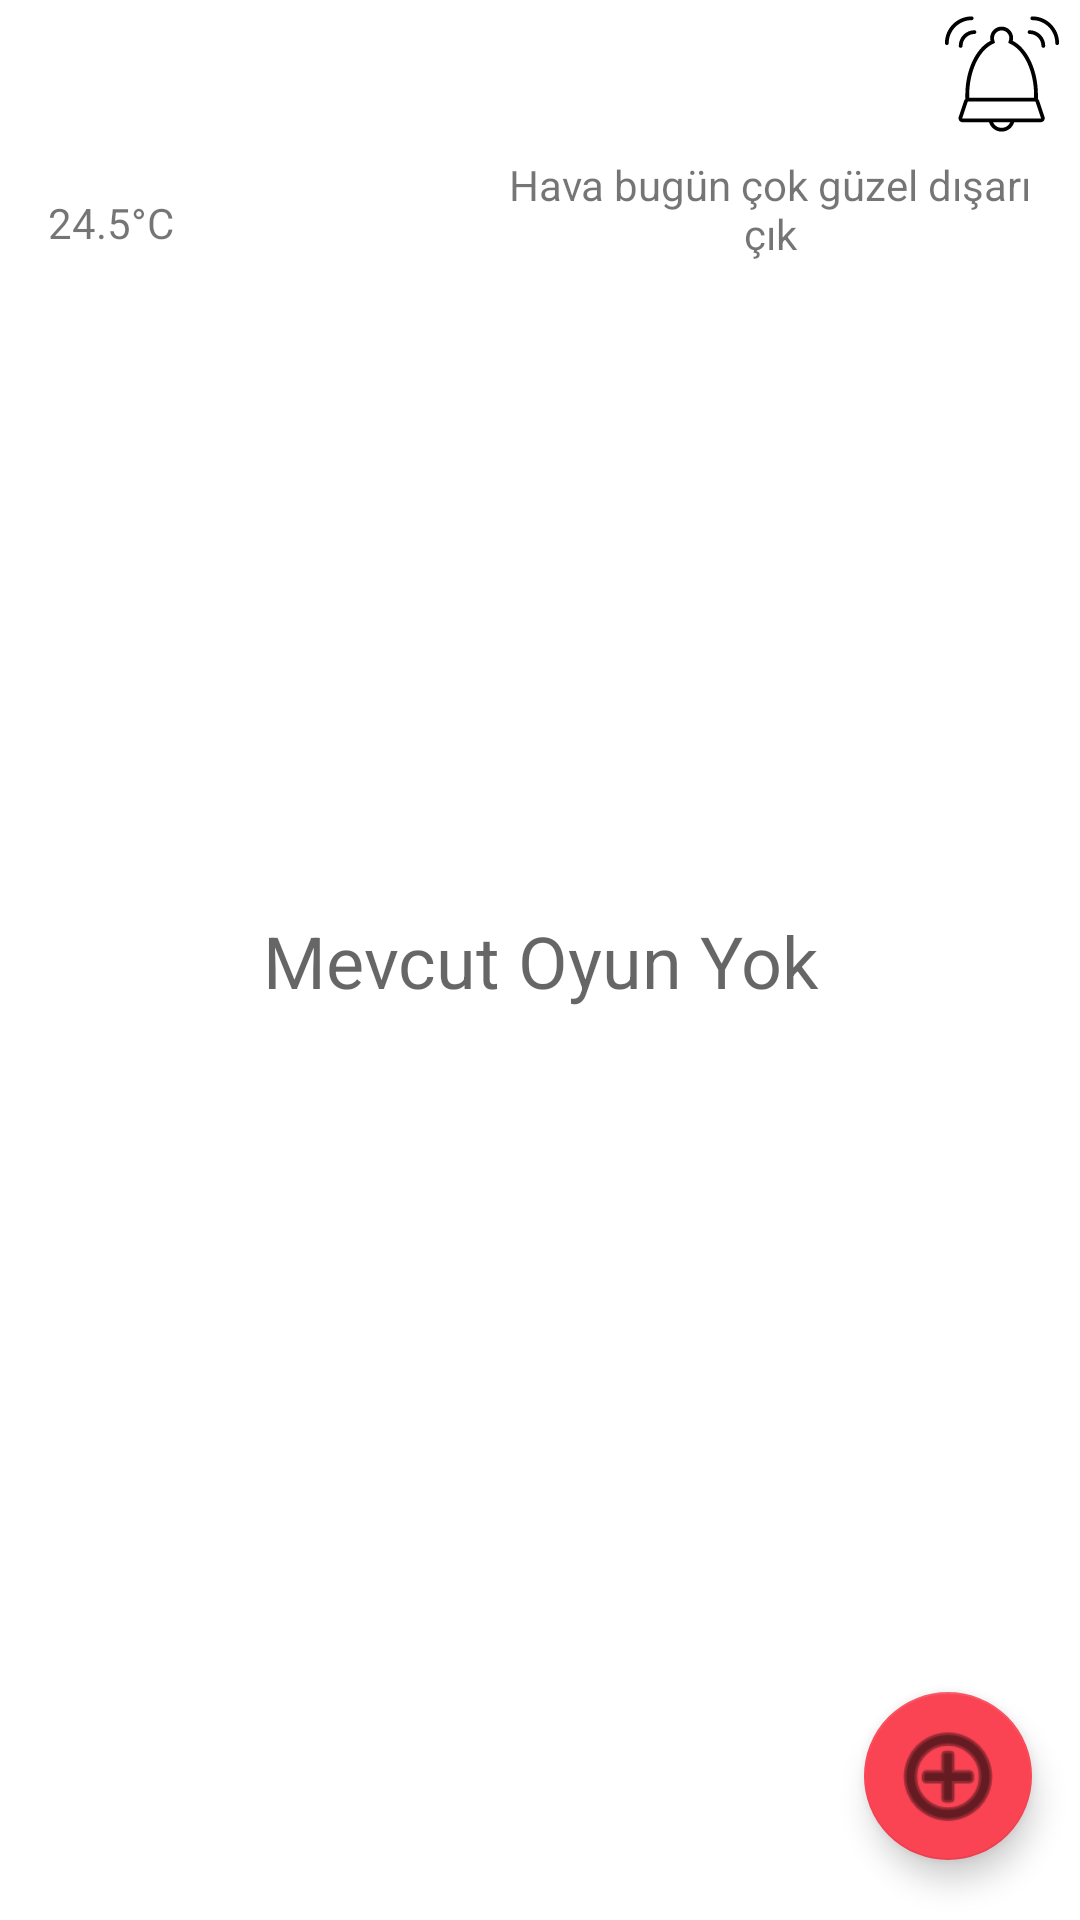

Icon bounding boxes for this 1080px×1920px phone screenshot, format (left=x1, top=y1, right=x2, bottom=y2):
add: (left=864, top=1692, right=1032, bottom=1860)
notification: (left=945, top=16, right=1059, bottom=132)
